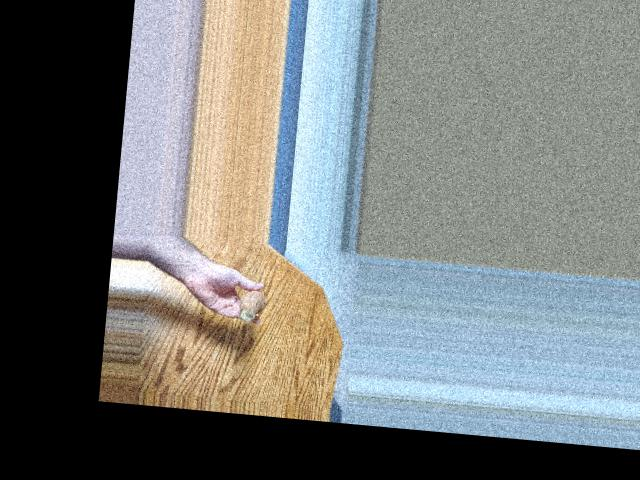sweet_potato: (238, 285, 277, 323)
